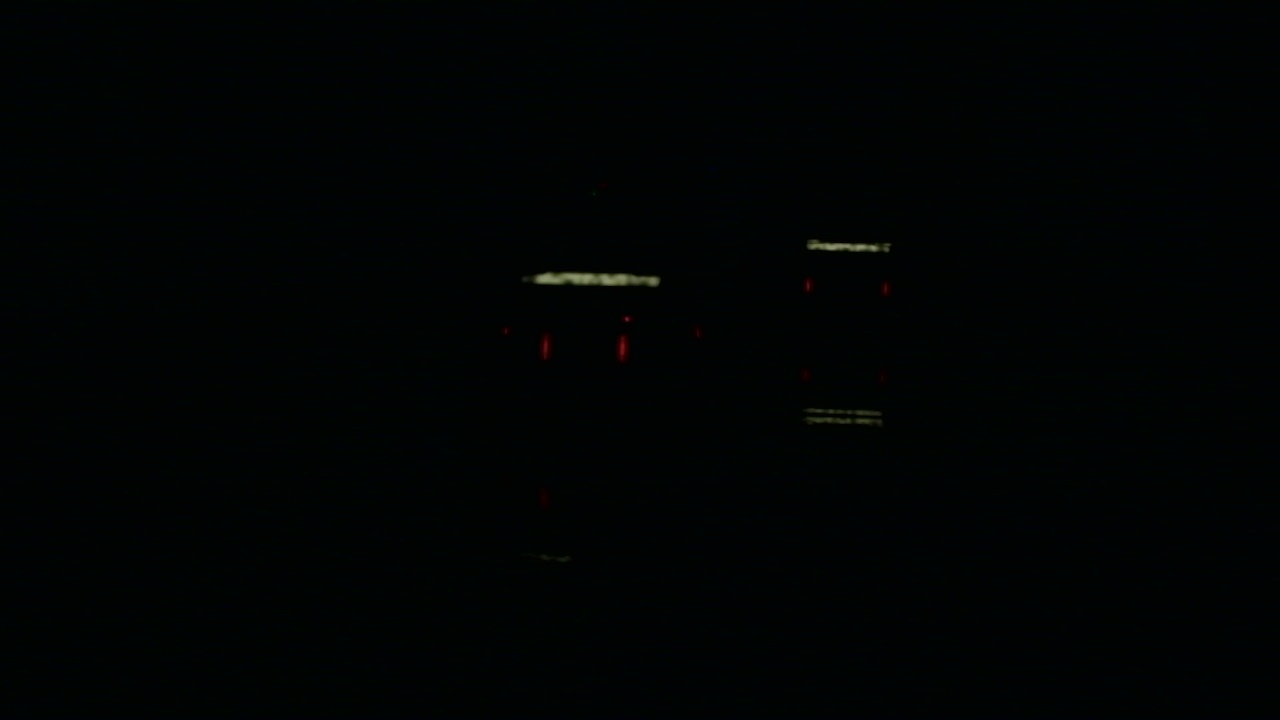lamp: (541, 330, 550, 363), (619, 331, 627, 361), (879, 278, 890, 292), (804, 278, 814, 293)
pair1: (541, 333, 626, 362)
pair2: (805, 279, 890, 295)
